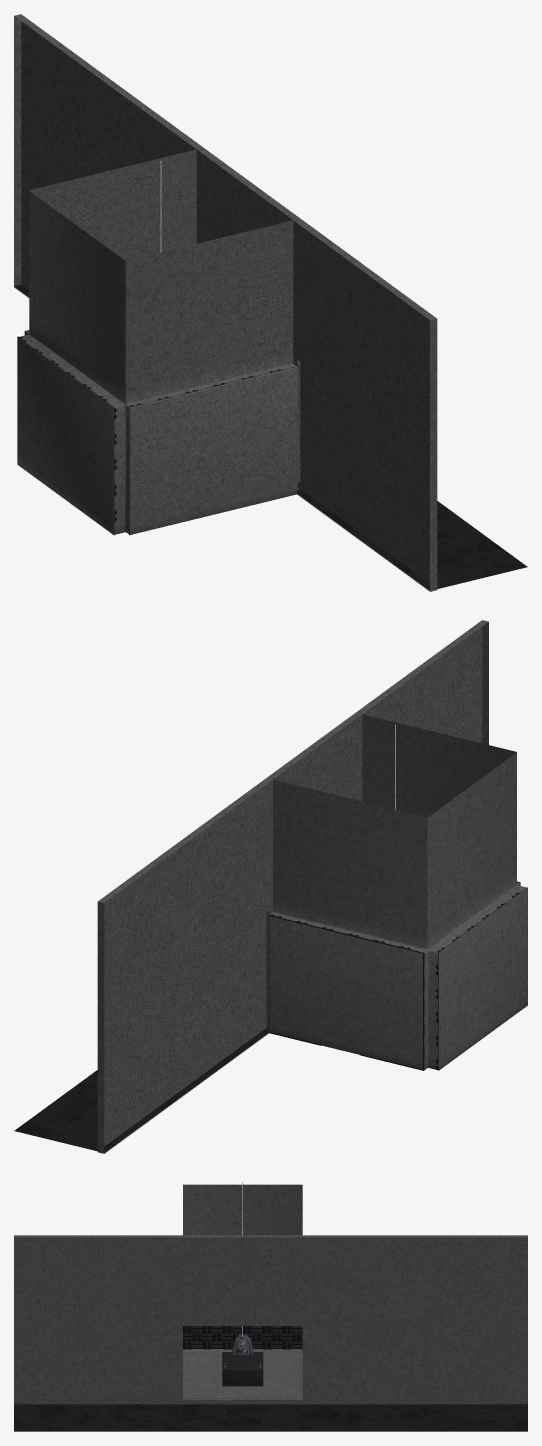
File: scene-hoodie.glb
3 views of the same model, one above another, from view 1: azimuth 30°, elevation 25°; view 2: azimuth 150°, elevation 25°; view 3: azimuth 270°, elevation 25° (orthographic). The views are drawn at different scales.
Parts seen in each view (by area): view 1: Building, Building.002, Building.001; view 2: Building, Building.002, Building.001, Plane.006; view 3: Building.002, Building.001, Building, Plane.001, Cube.002, Hoodie.
Boxes of the visible parts, x1,y1,x2,y2 form: Building: [17, 149, 437, 591]; Building.002: [14, 14, 436, 591]; Building.001: [14, 284, 527, 590]; Building: [269, 622, 527, 1069]; Building.002: [97, 620, 488, 1153]; Building.001: [14, 1028, 268, 1152]; Plane.006: [269, 914, 424, 1070]; Building.002: [14, 1235, 527, 1404]; Building.001: [14, 1404, 527, 1431]; Building: [183, 1184, 302, 1397]; Plane.001: [183, 1326, 302, 1349]; Cube.002: [222, 1352, 263, 1386]; Hoodie: [232, 1334, 253, 1356].
Bounding box in the file's own units: 25.34 × 27.84 × 65.85.
13 materials, 11 textured.
